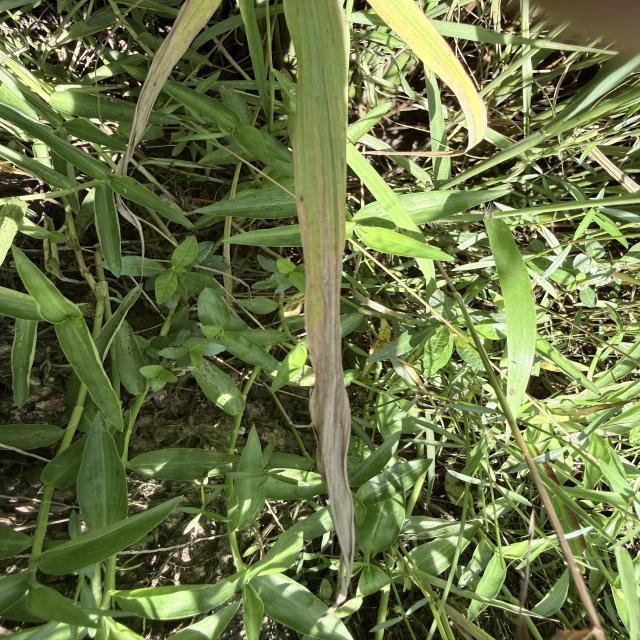Chay bia la: (309, 205, 355, 621)
